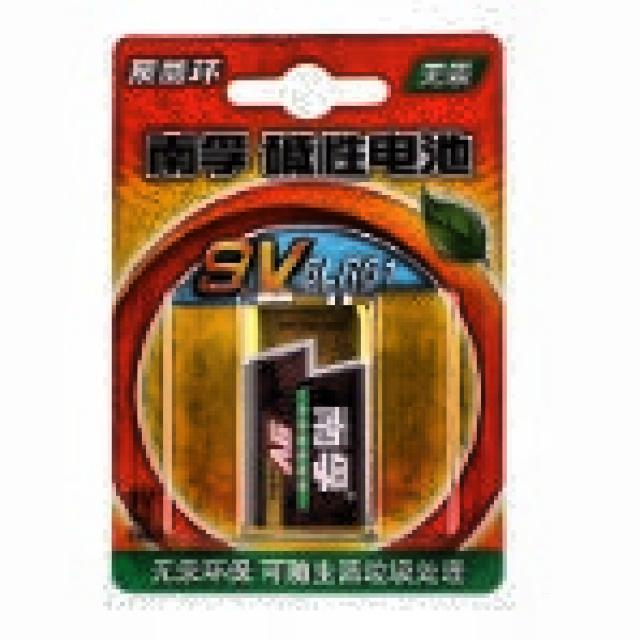Non-Valuable Waste - Batteries: (251, 305, 364, 527)
